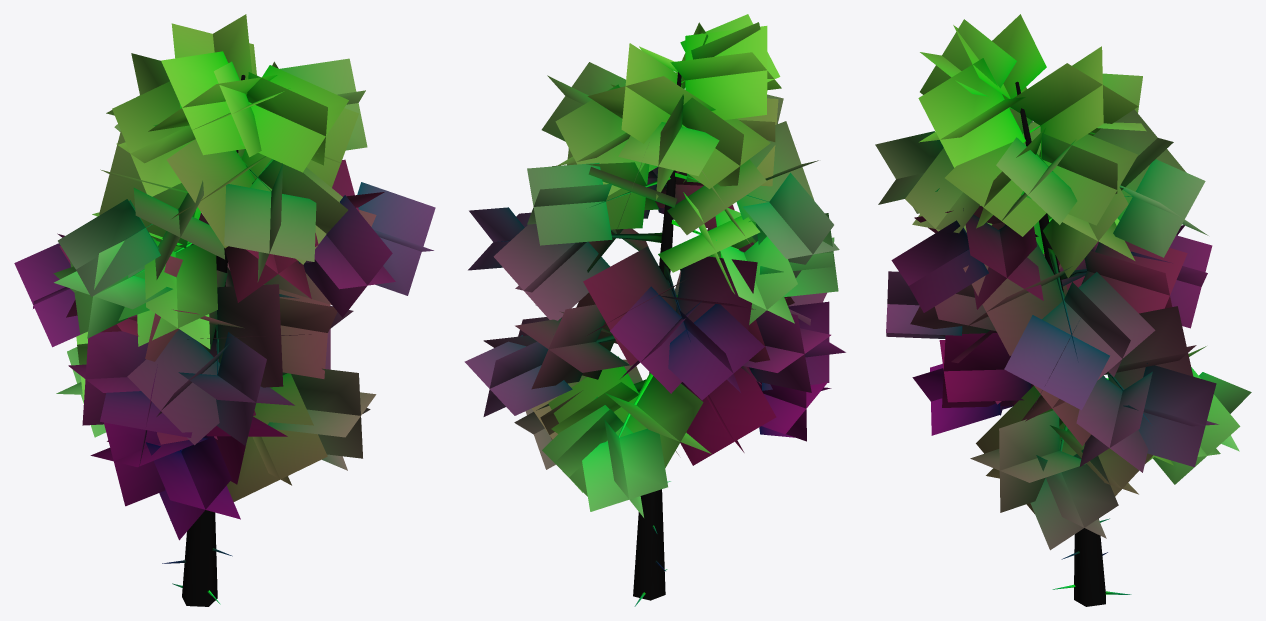
File: URP_P7_Tree_2_LOD_3.fbx
3 renders of one model, left to right at view 1: azimuth 30°, elevation 25°; view 2: azimuth 150°, elevation 25°; view 3: azimuth 270°, elevation 25°, orthographic. The views are drawn at different scales.
Parts seen in each view (by area): view 1: Tree_2_LOD_3; view 2: Tree_2_LOD_3; view 3: Tree_2_LOD_3.
Part boxes in pixels (x1=…): Tree_2_LOD_3: x1=14, y1=14, x2=435, y2=606; Tree_2_LOD_3: x1=464, y1=14, x2=845, y2=606; Tree_2_LOD_3: x1=875, y1=14, x2=1251, y2=606.
Size of the model in its own units: 286 by 414 by 254.
